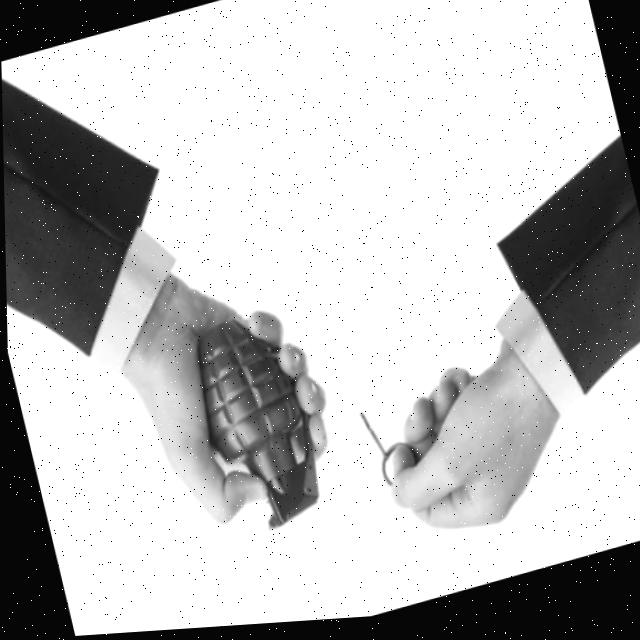grenade: (159, 295, 367, 562)
